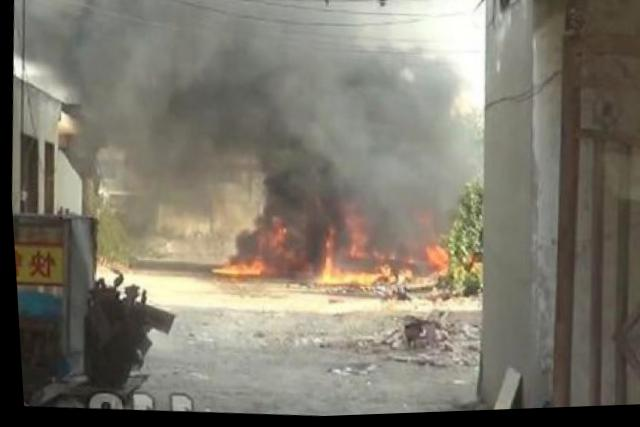fire: (334, 267, 378, 291), (312, 251, 339, 288), (207, 260, 261, 276), (424, 245, 447, 273)
